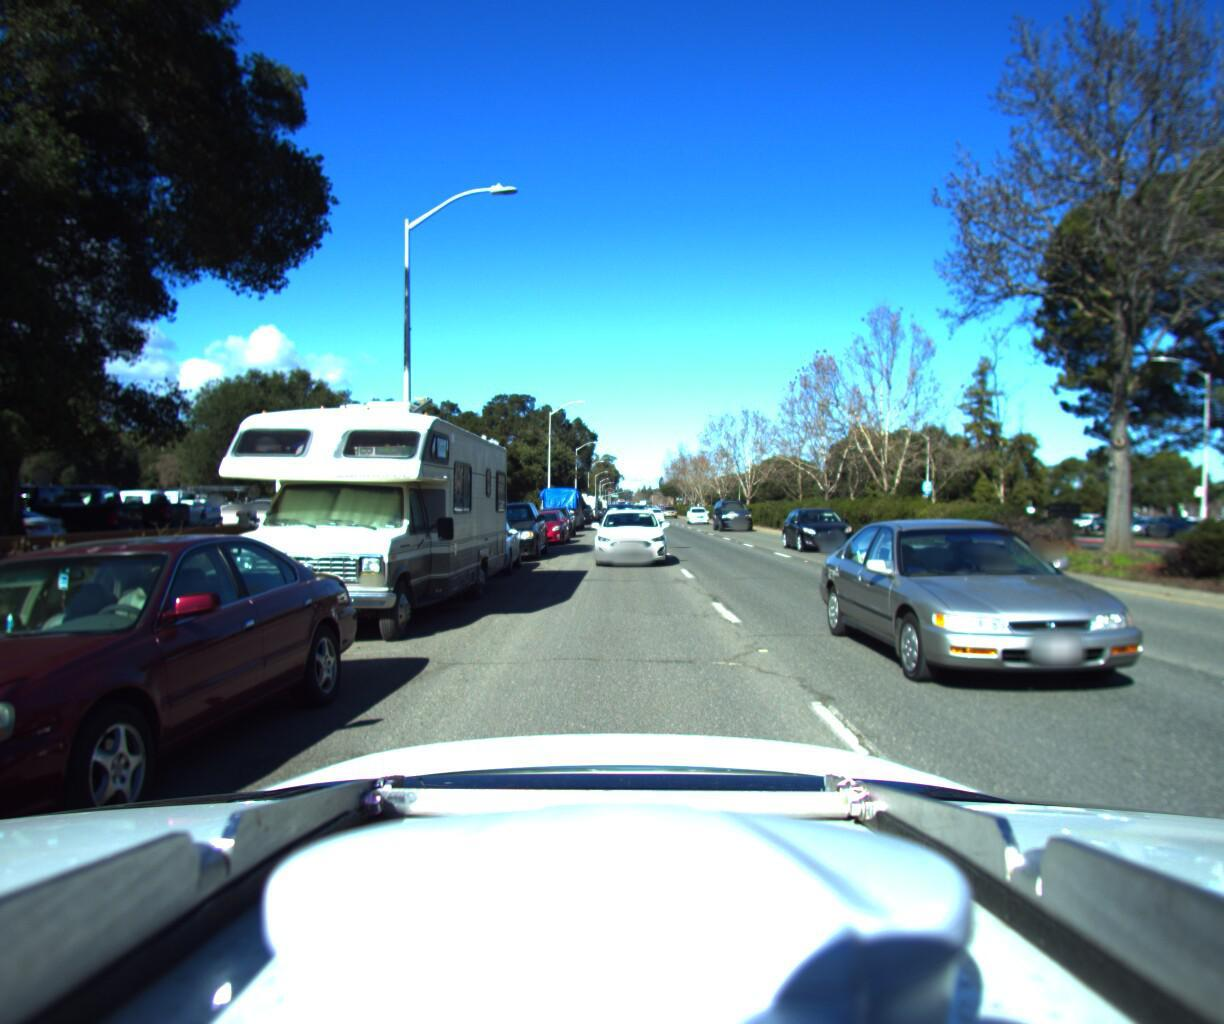car: (0, 521, 380, 975), (832, 502, 1224, 756), (0, 478, 196, 541), (0, 474, 151, 548), (52, 481, 226, 535), (104, 479, 262, 529), (426, 507, 529, 576), (455, 492, 552, 562), (0, 494, 77, 560), (593, 502, 668, 565), (778, 499, 871, 549), (215, 493, 319, 526), (517, 501, 570, 542), (527, 497, 576, 534), (714, 499, 757, 525), (566, 495, 594, 519), (685, 497, 711, 517), (642, 495, 663, 515)
other_vehicle: (172, 358, 521, 653), (532, 479, 582, 526), (566, 486, 597, 517)
